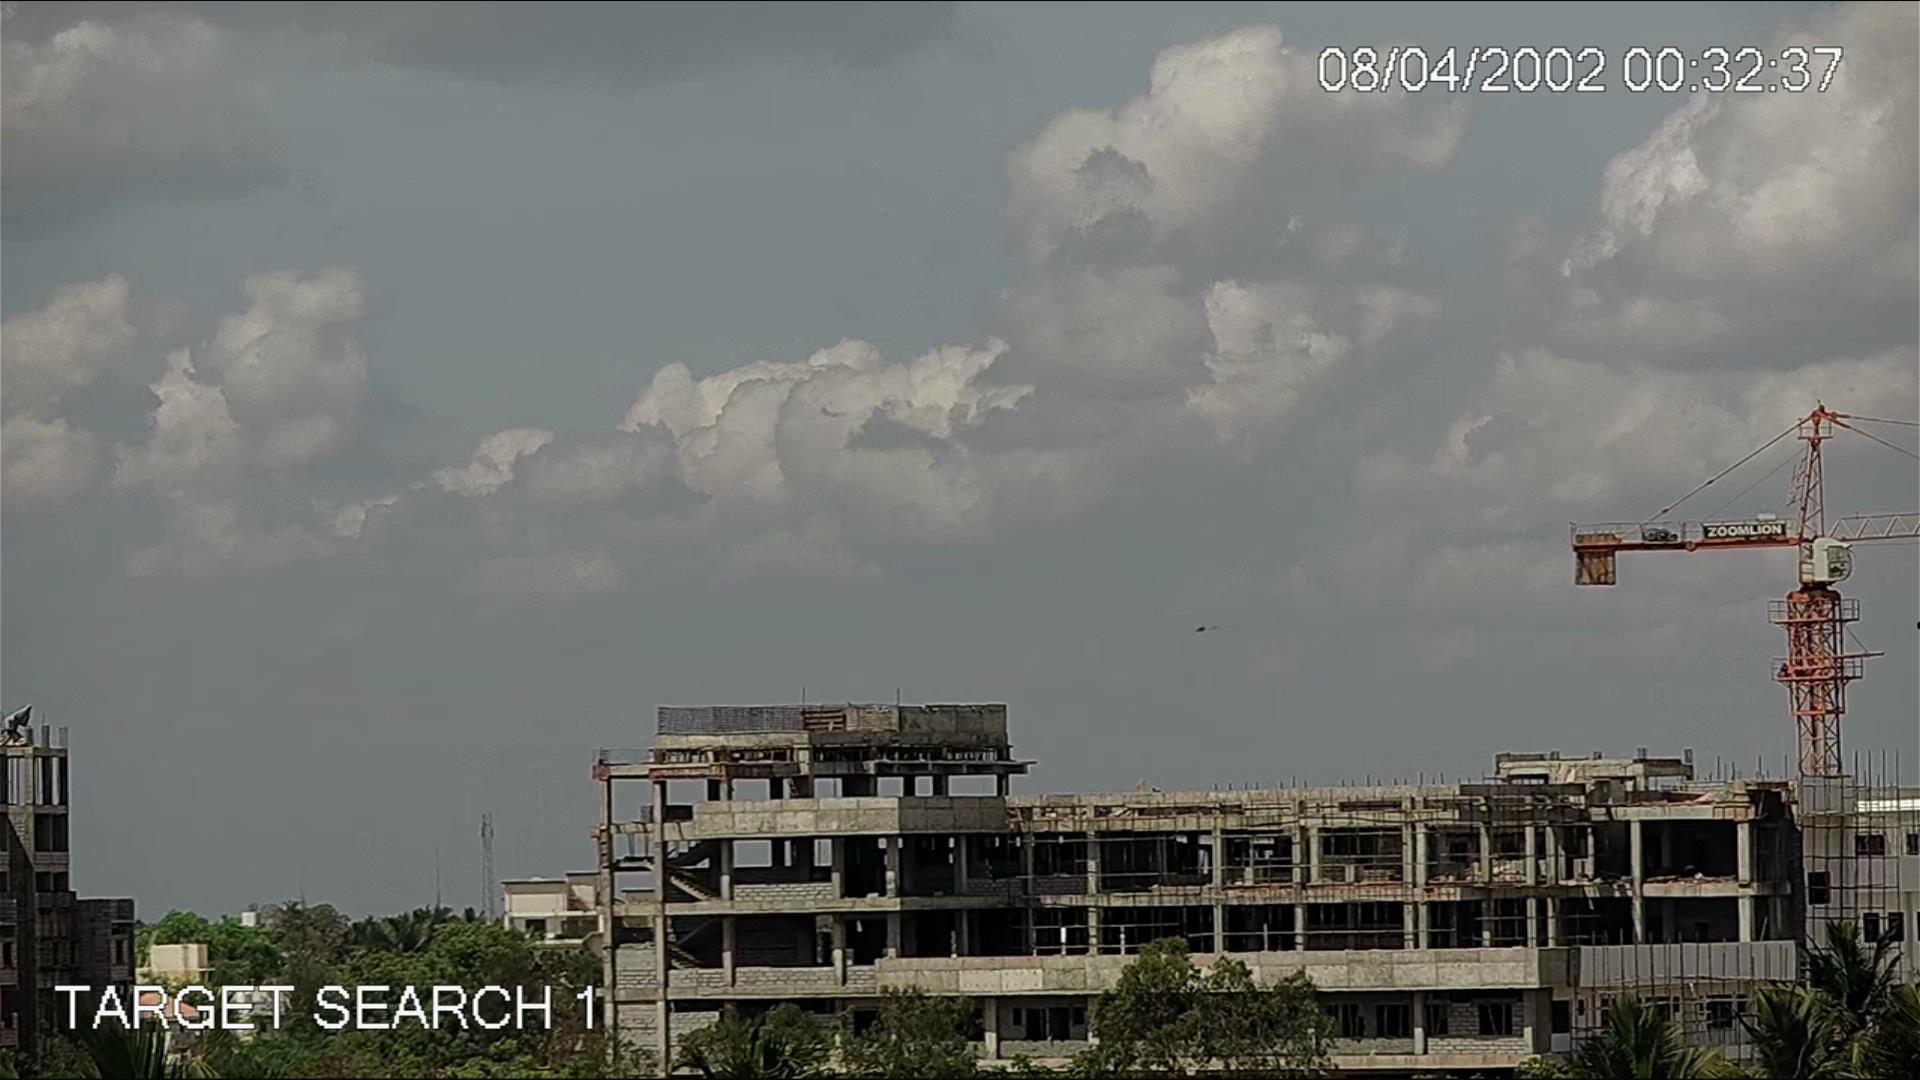SU_30: (1192, 622, 1222, 637)
